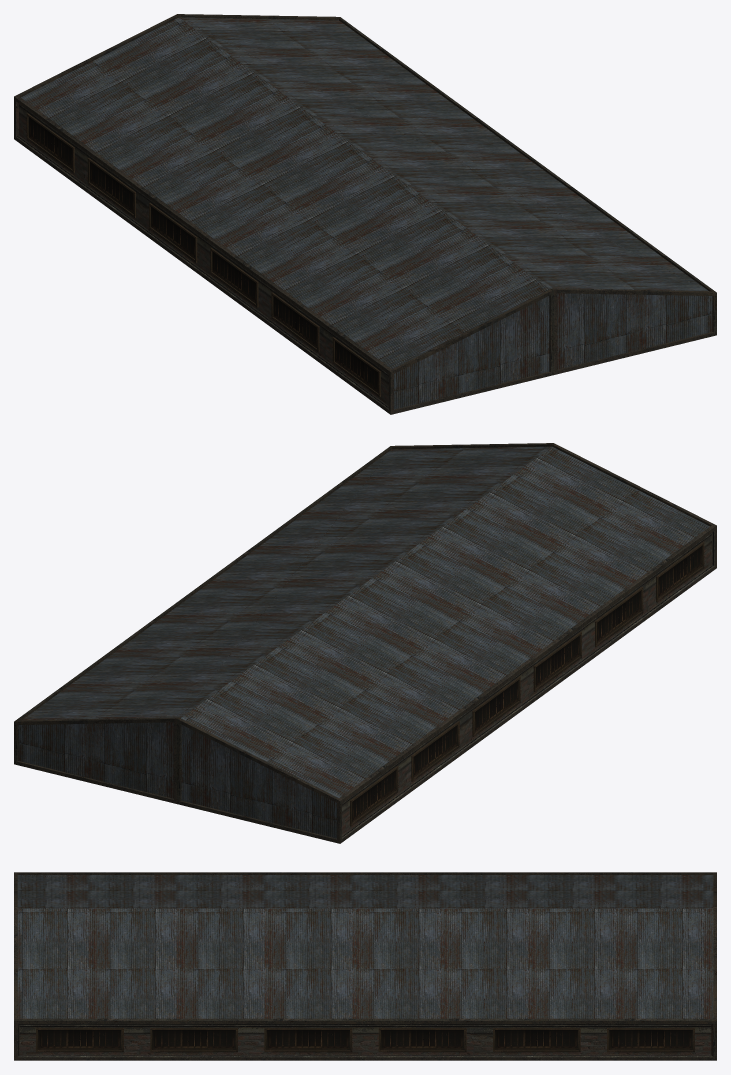
The model's file is roof_mh_4_a_4.glb.
3 renders of one model, top to bottom at view 1: azimuth 30°, elevation 25°; view 2: azimuth 150°, elevation 25°; view 3: azimuth 270°, elevation 25°, orthographic. The views are drawn at different scales.
Visible parts, largest first — view 1: roof_mh_4_a_4; view 2: roof_mh_4_a_4; view 3: roof_mh_4_a_4.
Boxes of the visible parts, box(x1,y1,x2,y2) form: roof_mh_4_a_4: box(14, 14, 716, 414); roof_mh_4_a_4: box(14, 443, 716, 843); roof_mh_4_a_4: box(14, 872, 716, 1060).
Size of the model in its own units: 8 by 2 by 16.
6 materials, 6 textured.
